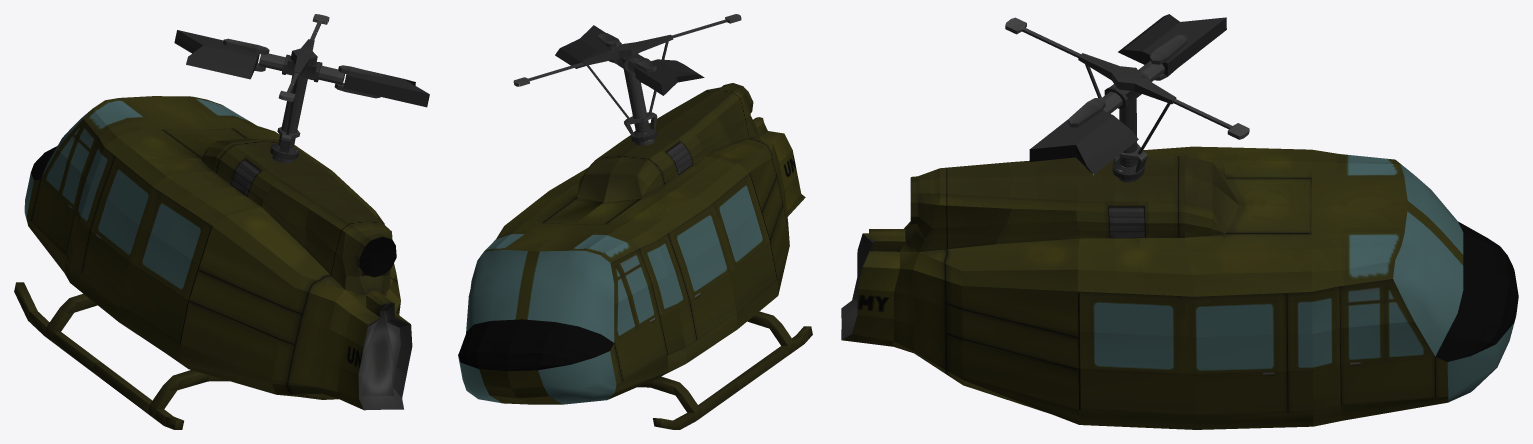
Rendered from Vehicle_UH1HFuselage.fbx.
3 renders of one model, left to right at view 1: azimuth 30°, elevation 25°; view 2: azimuth 150°, elevation 25°; view 3: azimuth 270°, elevation 25°, orthographic. The views are drawn at different scales.
Parts seen in each view (by area): view 1: Plane.006; view 2: Plane.006; view 3: Plane.006.
Boxes of the visible parts, x1,y1,x2,y2 form: Plane.006: [14, 14, 429, 429]; Plane.006: [458, 14, 812, 429]; Plane.006: [841, 14, 1518, 429].
Bounding box in the file's own units: 164 × 194 × 329.
